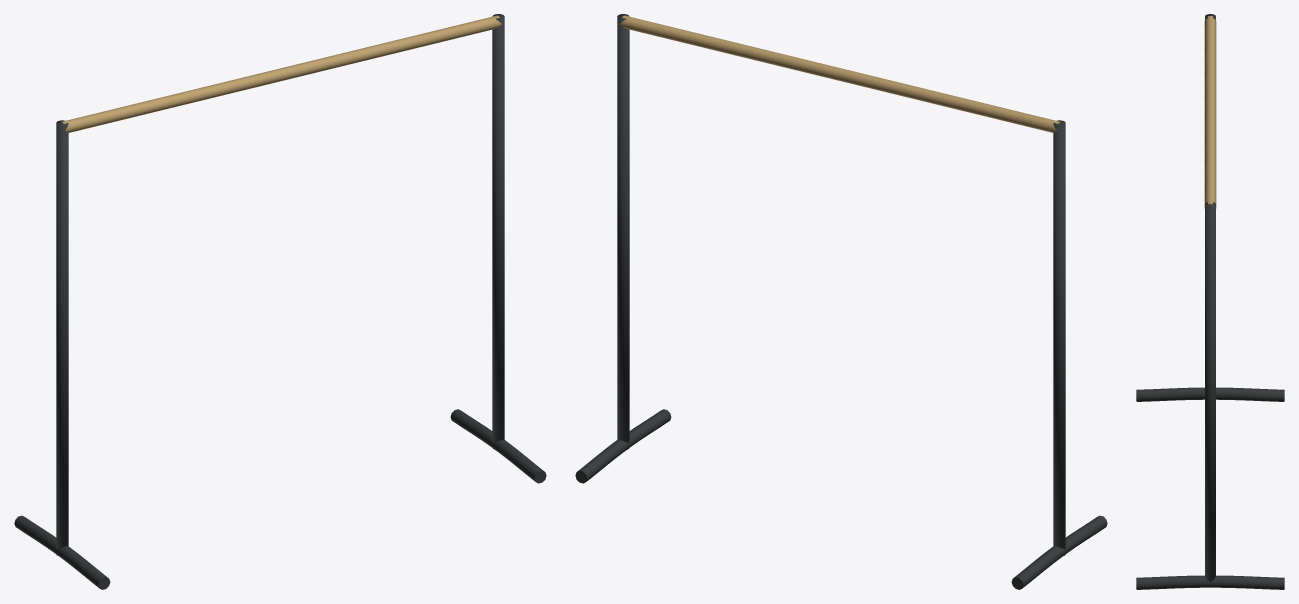
File: fixture_apparel_rail.glb
The picture shows the model from 3 angles, left to right: view 1: azimuth 30°, elevation 25°; view 2: azimuth 150°, elevation 25°; view 3: azimuth 270°, elevation 25°; orthographic projection. The views are drawn at different scales.
Visible parts, largest first — view 1: fixture_apparel_rail_Anodised_graphite, fixture_apparel_rail_Satin_champagne; view 2: fixture_apparel_rail_Anodised_graphite, fixture_apparel_rail_Satin_champagne; view 3: fixture_apparel_rail_Anodised_graphite, fixture_apparel_rail_Satin_champagne.
Part boxes in pixels (x1,y1,x2,y2): fixture_apparel_rail_Anodised_graphite: [14, 14, 546, 589]; fixture_apparel_rail_Satin_champagne: [61, 15, 501, 132]; fixture_apparel_rail_Anodised_graphite: [575, 14, 1107, 589]; fixture_apparel_rail_Satin_champagne: [620, 15, 1060, 132]; fixture_apparel_rail_Anodised_graphite: [1136, 14, 1284, 589]; fixture_apparel_rail_Satin_champagne: [1204, 16, 1216, 208].
Bounding box in the file's own units: 1.85 × 1.72 × 0.6016.
